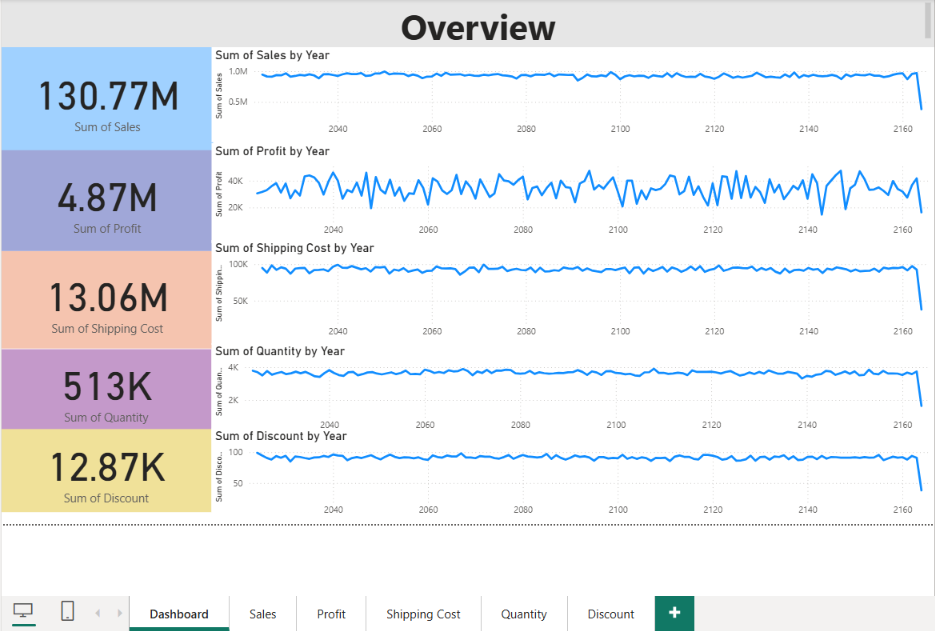

The page's visual inventory and layout, read from the dashboard file:
{"tool":"powerbi","page":{"name":"Dashboard","canvas":[1280,720],"ordinal":0},"visuals":[{"type":"textbox","box":[0,0,1280,66.2],"z":0},{"type":"card","fields":{"Values":["Sum(New_Visualized_Sales.Sales)"]},"box":[0,66.2,290.8,141.5],"z":1000},{"type":"card","fields":{"Values":["Sum(New_Visualized_Sales.Profit)"]},"box":[0,207.7,290.8,138.5],"z":2000},{"type":"lineChart","fields":{"Category":["New_Visualized_Sales.Order Date.Variation.Date Hierarchy.Year"],"Y":["Sum(New_Visualized_Sales.Sales)"]},"box":[287.7,66.2,992.3,130.8],"z":3000},{"type":"card","fields":{"Values":["Sum(New_Visualized_Sales.Discount)"]},"box":[0,589.2,287.7,115.4],"z":4000},{"type":"card","fields":{"Values":["Sum(New_Visualized_Sales.Quantity)"]},"box":[0,480,287.7,109.2],"z":5000},{"type":"card","fields":{"Values":["Sum(New_Visualized_Sales.Shipping Cost)"]},"box":[0,346.2,290.8,133.8],"z":6000},{"type":"lineChart","fields":{"Category":["New_Visualized_Sales.Order Date.Variation.Date Hierarchy.Year"],"Y":["Sum(New_Visualized_Sales.Profit)"]},"box":[287.7,196.9,992.3,136.9],"z":7000},{"type":"lineChart","fields":{"Category":["New_Visualized_Sales.Ship Date.Variation.Date Hierarchy.Year"],"Y":["Sum(New_Visualized_Sales.Shipping Cost)"]},"box":[287.7,330.8,992.3,143.1],"z":8000},{"type":"lineChart","fields":{"Category":["New_Visualized_Sales.Order Date.Variation.Date Hierarchy.Year"],"Y":["Sum(New_Visualized_Sales.Quantity)"]},"box":[287.7,472.3,992.3,130.8],"z":9000},{"type":"lineChart","fields":{"Category":["New_Visualized_Sales.Order Date.Variation.Date Hierarchy.Year"],"Y":["Sum(New_Visualized_Sales.Discount)"]},"box":[287.7,589.2,992.3,130.8],"z":10000}]}

Visuals, with their boxes on the page's 1280x720 design canvas (x1, y1, x2, y2). These are canvas units, not pixel positions in the 935x631 screenshot, which may show the page scaled, cropped or inside an application window:
textbox: box=[0, 0, 1280, 66]
card - Sum(New_Visualized_Sales.Sales): box=[0, 66, 291, 208]
card - Sum(New_Visualized_Sales.Profit): box=[0, 208, 291, 346]
lineChart - New_Visualized_Sales.Order Date.Variation.Date Hierarchy.Year x Sum(New_Visualized_Sales.Sales): box=[288, 66, 1280, 197]
card - Sum(New_Visualized_Sales.Discount): box=[0, 589, 288, 705]
card - Sum(New_Visualized_Sales.Quantity): box=[0, 480, 288, 589]
card - Sum(New_Visualized_Sales.Shipping Cost): box=[0, 346, 291, 480]
lineChart - New_Visualized_Sales.Order Date.Variation.Date Hierarchy.Year x Sum(New_Visualized_Sales.Profit): box=[288, 197, 1280, 334]
lineChart - New_Visualized_Sales.Ship Date.Variation.Date Hierarchy.Year x Sum(New_Visualized_Sales.Shipping Cost): box=[288, 331, 1280, 474]
lineChart - New_Visualized_Sales.Order Date.Variation.Date Hierarchy.Year x Sum(New_Visualized_Sales.Quantity): box=[288, 472, 1280, 603]
lineChart - New_Visualized_Sales.Order Date.Variation.Date Hierarchy.Year x Sum(New_Visualized_Sales.Discount): box=[288, 589, 1280, 720]
